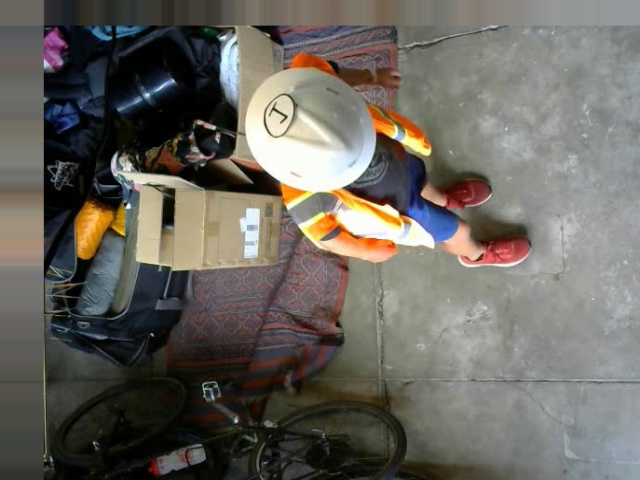one: (263, 93, 294, 137)
